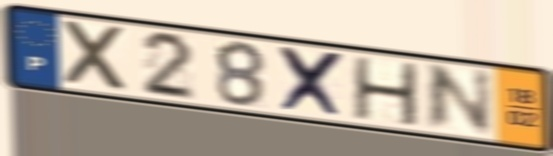2: (139, 30, 197, 104)
8: (213, 39, 268, 108)
H: (349, 55, 423, 130)
N: (422, 62, 496, 136)
X: (276, 44, 348, 122), (60, 17, 132, 95)
